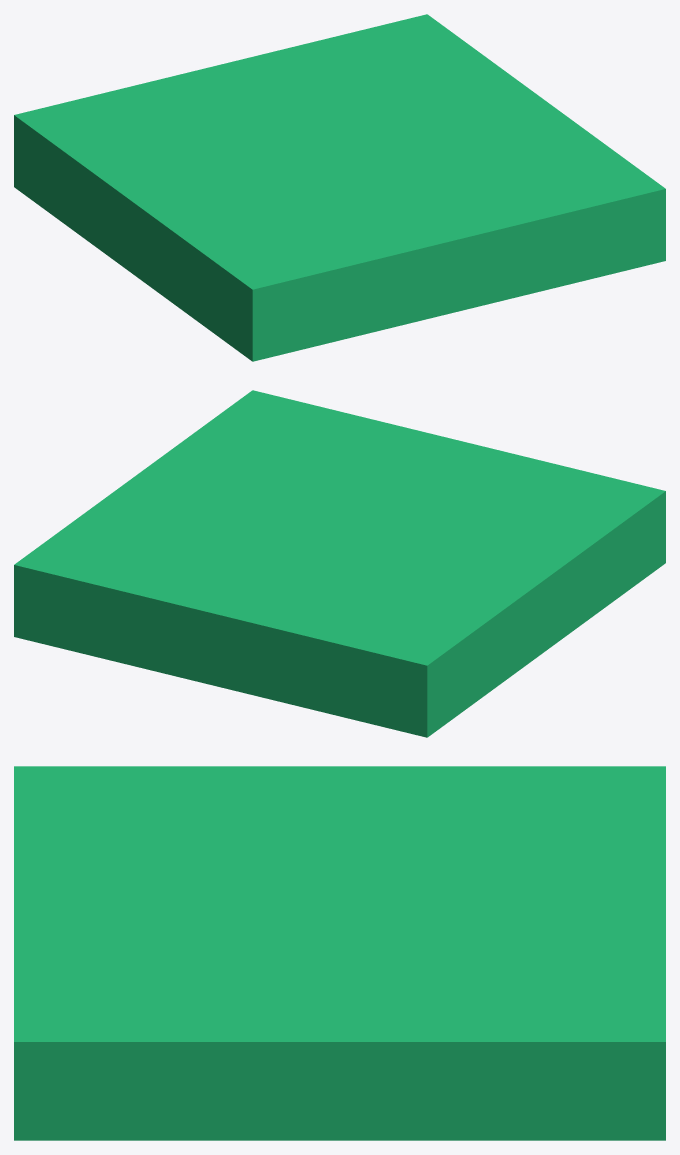
File: tile.glb
The picture shows the model from 3 angles, top to bottom: view 1: azimuth 30°, elevation 25°; view 2: azimuth 150°, elevation 25°; view 3: azimuth 270°, elevation 25°; orthographic projection. The views are drawn at different scales.
Visible parts, largest first — view 1: generated(Clone); view 2: generated(Clone); view 3: generated(Clone).
Part boxes in pixels (<box>): generated(Clone): <box>14,14,665,361</box>; generated(Clone): <box>14,390,665,737</box>; generated(Clone): <box>14,766,665,1140</box>.
Bounding box in the file's own units: 6 × 1 × 6.
